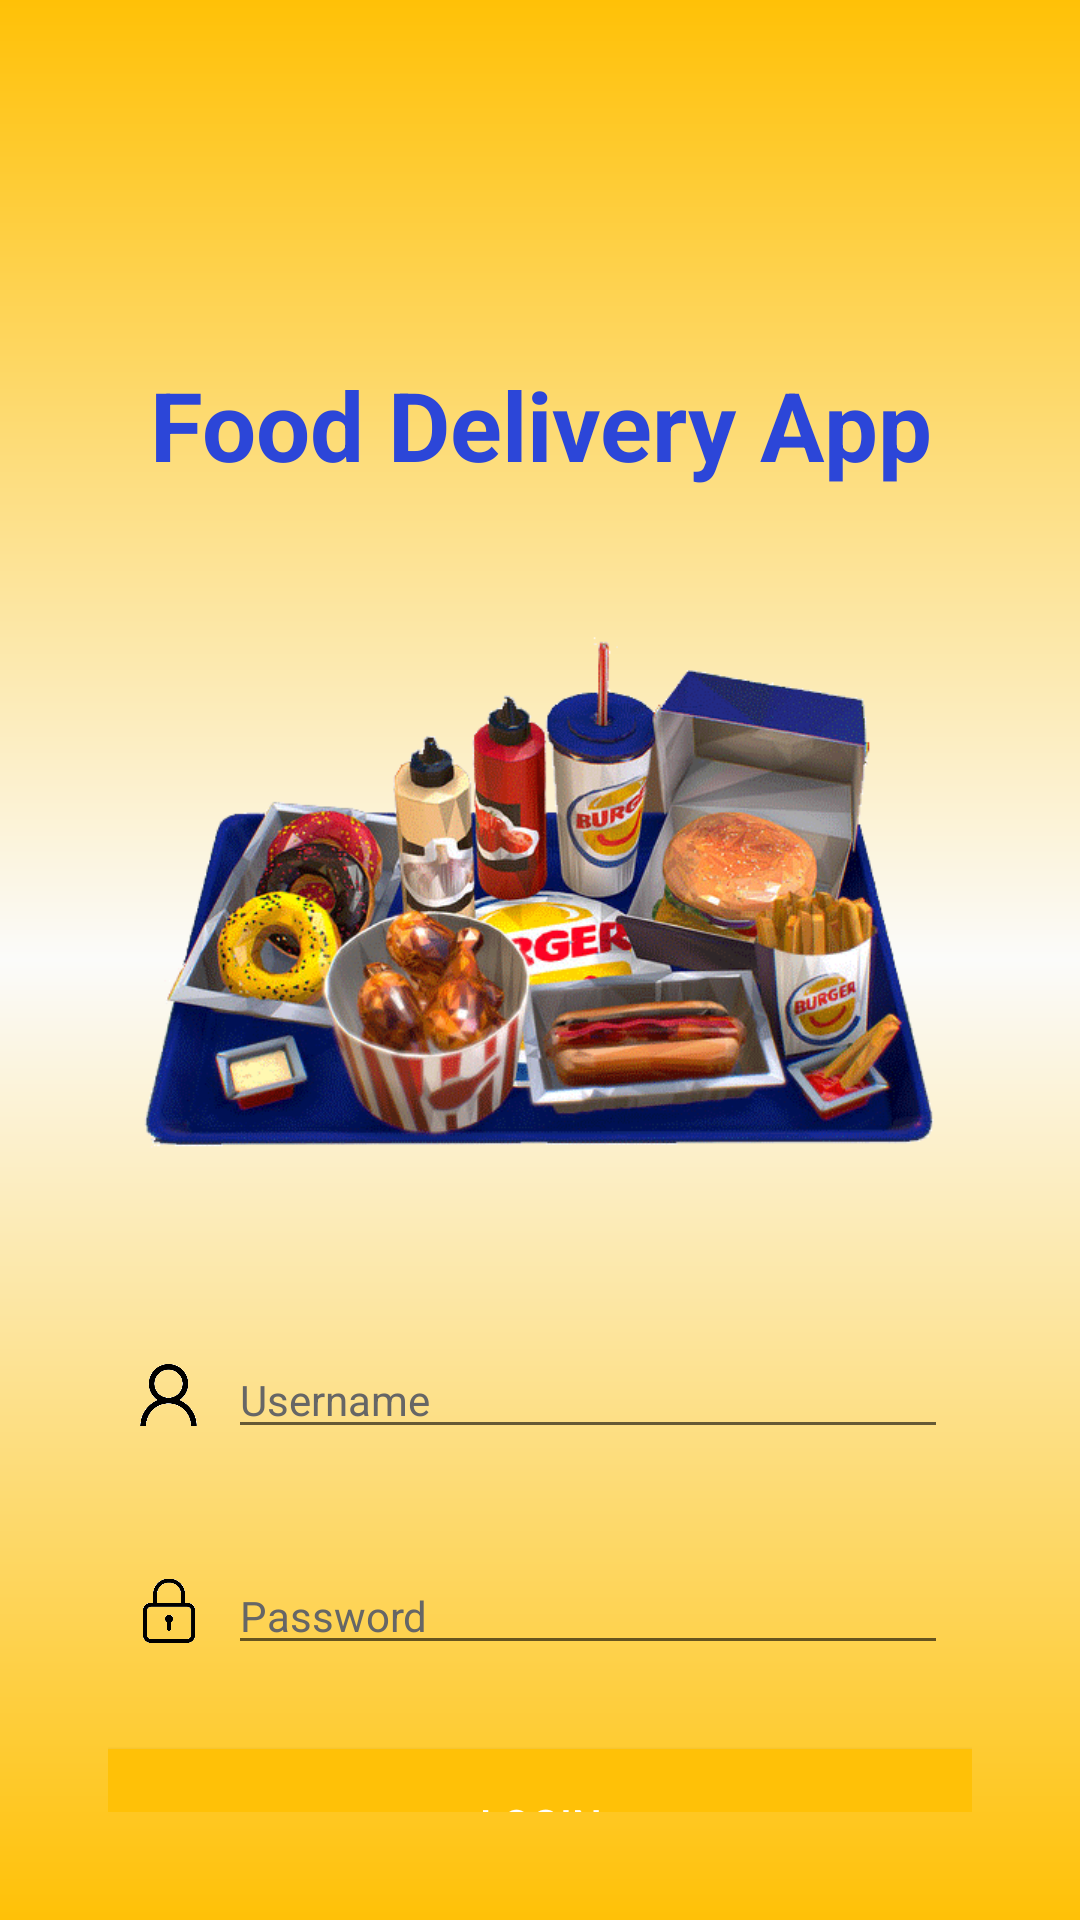

Where icons sit on this 1080px×1920px app screen, as (x1, y1, x2, y2):
lock: (143, 1579, 195, 1643)
